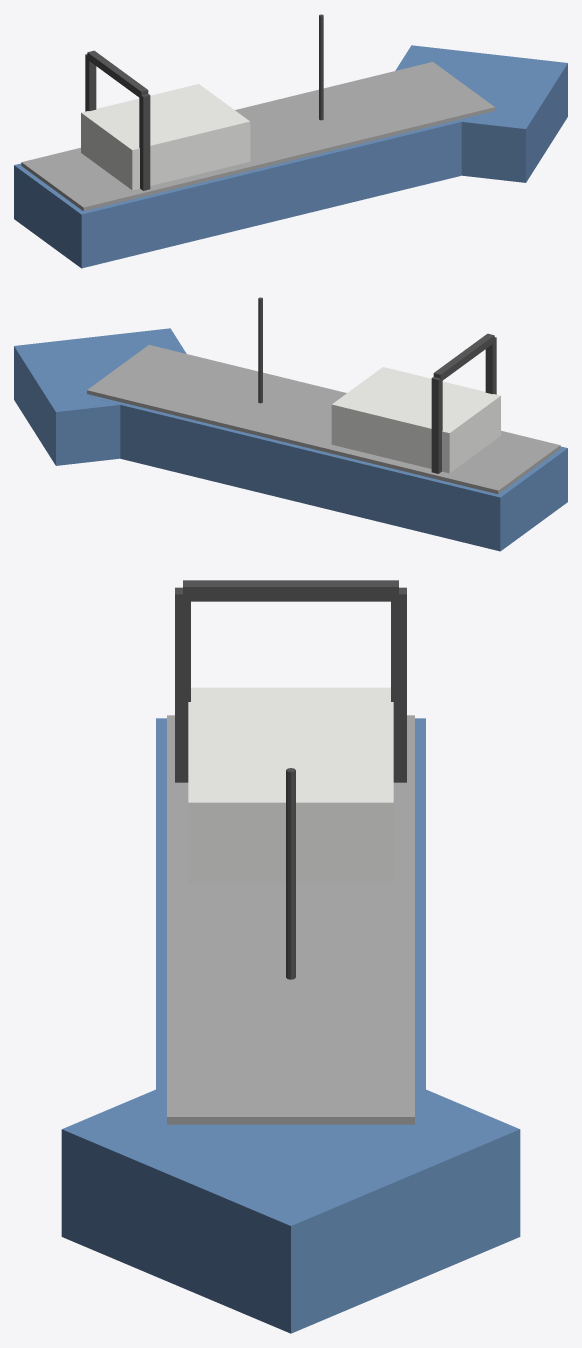
Rendered from offshore_trawler.glb.
The picture shows the model from 3 angles, top to bottom: view 1: azimuth 30°, elevation 25°; view 2: azimuth 150°, elevation 25°; view 3: azimuth 270°, elevation 25°; orthographic projection. The views are drawn at different scales.
Parts seen in each view (by area): view 1: hull, deck, bow, cabin, gantry2, gantry_top, gantry1, mast; view 2: hull, deck, bow, cabin, gantry1, gantry_top, gantry2, mast; view 3: bow, deck, cabin, hull, gantry_top, gantry2, gantry1, mast.
Part boxes in pixels (box(x1,y1,x2,y2)): hull: box(14, 62, 501, 268); deck: box(21, 62, 494, 211); bow: box(395, 45, 567, 182); cabin: box(81, 84, 250, 190); gantry2: box(139, 94, 150, 190); gantry_top: box(87, 50, 148, 97); gantry1: box(85, 54, 96, 111); mast: box(319, 14, 323, 120); hull: box(80, 345, 567, 551); deck: box(87, 345, 560, 494); bow: box(14, 328, 186, 465); cabin: box(331, 367, 500, 473); gantry1: box(431, 377, 442, 473); gantry_top: box(433, 333, 494, 380); gantry2: box(485, 337, 496, 394); mast: box(258, 297, 262, 403); bow: box(61, 1089, 520, 1333); deck: box(167, 715, 414, 1124); cabin: box(188, 687, 393, 883); hull: box(156, 718, 425, 1129); gantry_top: box(183, 580, 398, 601); gantry2: box(175, 587, 190, 782); gantry1: box(391, 587, 406, 782); mast: box(286, 768, 295, 979).
Bounding box in the file's own units: 22.24 × 6.6 × 8.49.
